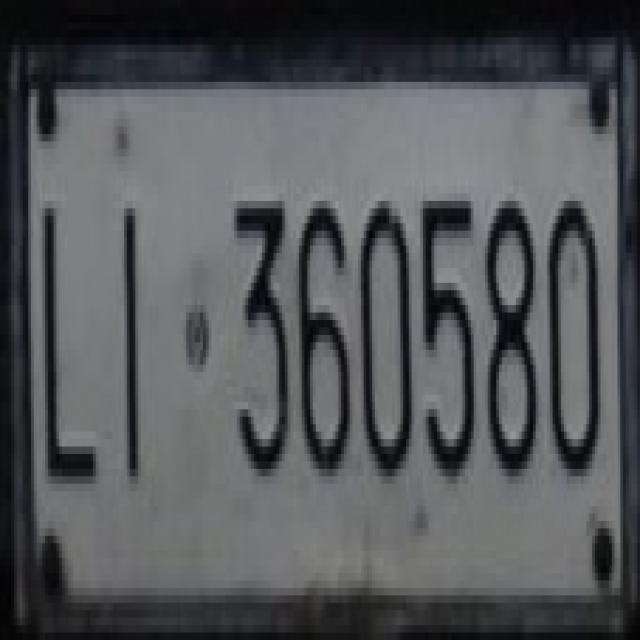0: (538, 178, 598, 462), (349, 178, 408, 462)
3: (226, 186, 290, 469)
5: (406, 172, 482, 462)
6: (284, 178, 356, 468)
8: (474, 186, 544, 469)
L: (28, 178, 110, 484)
